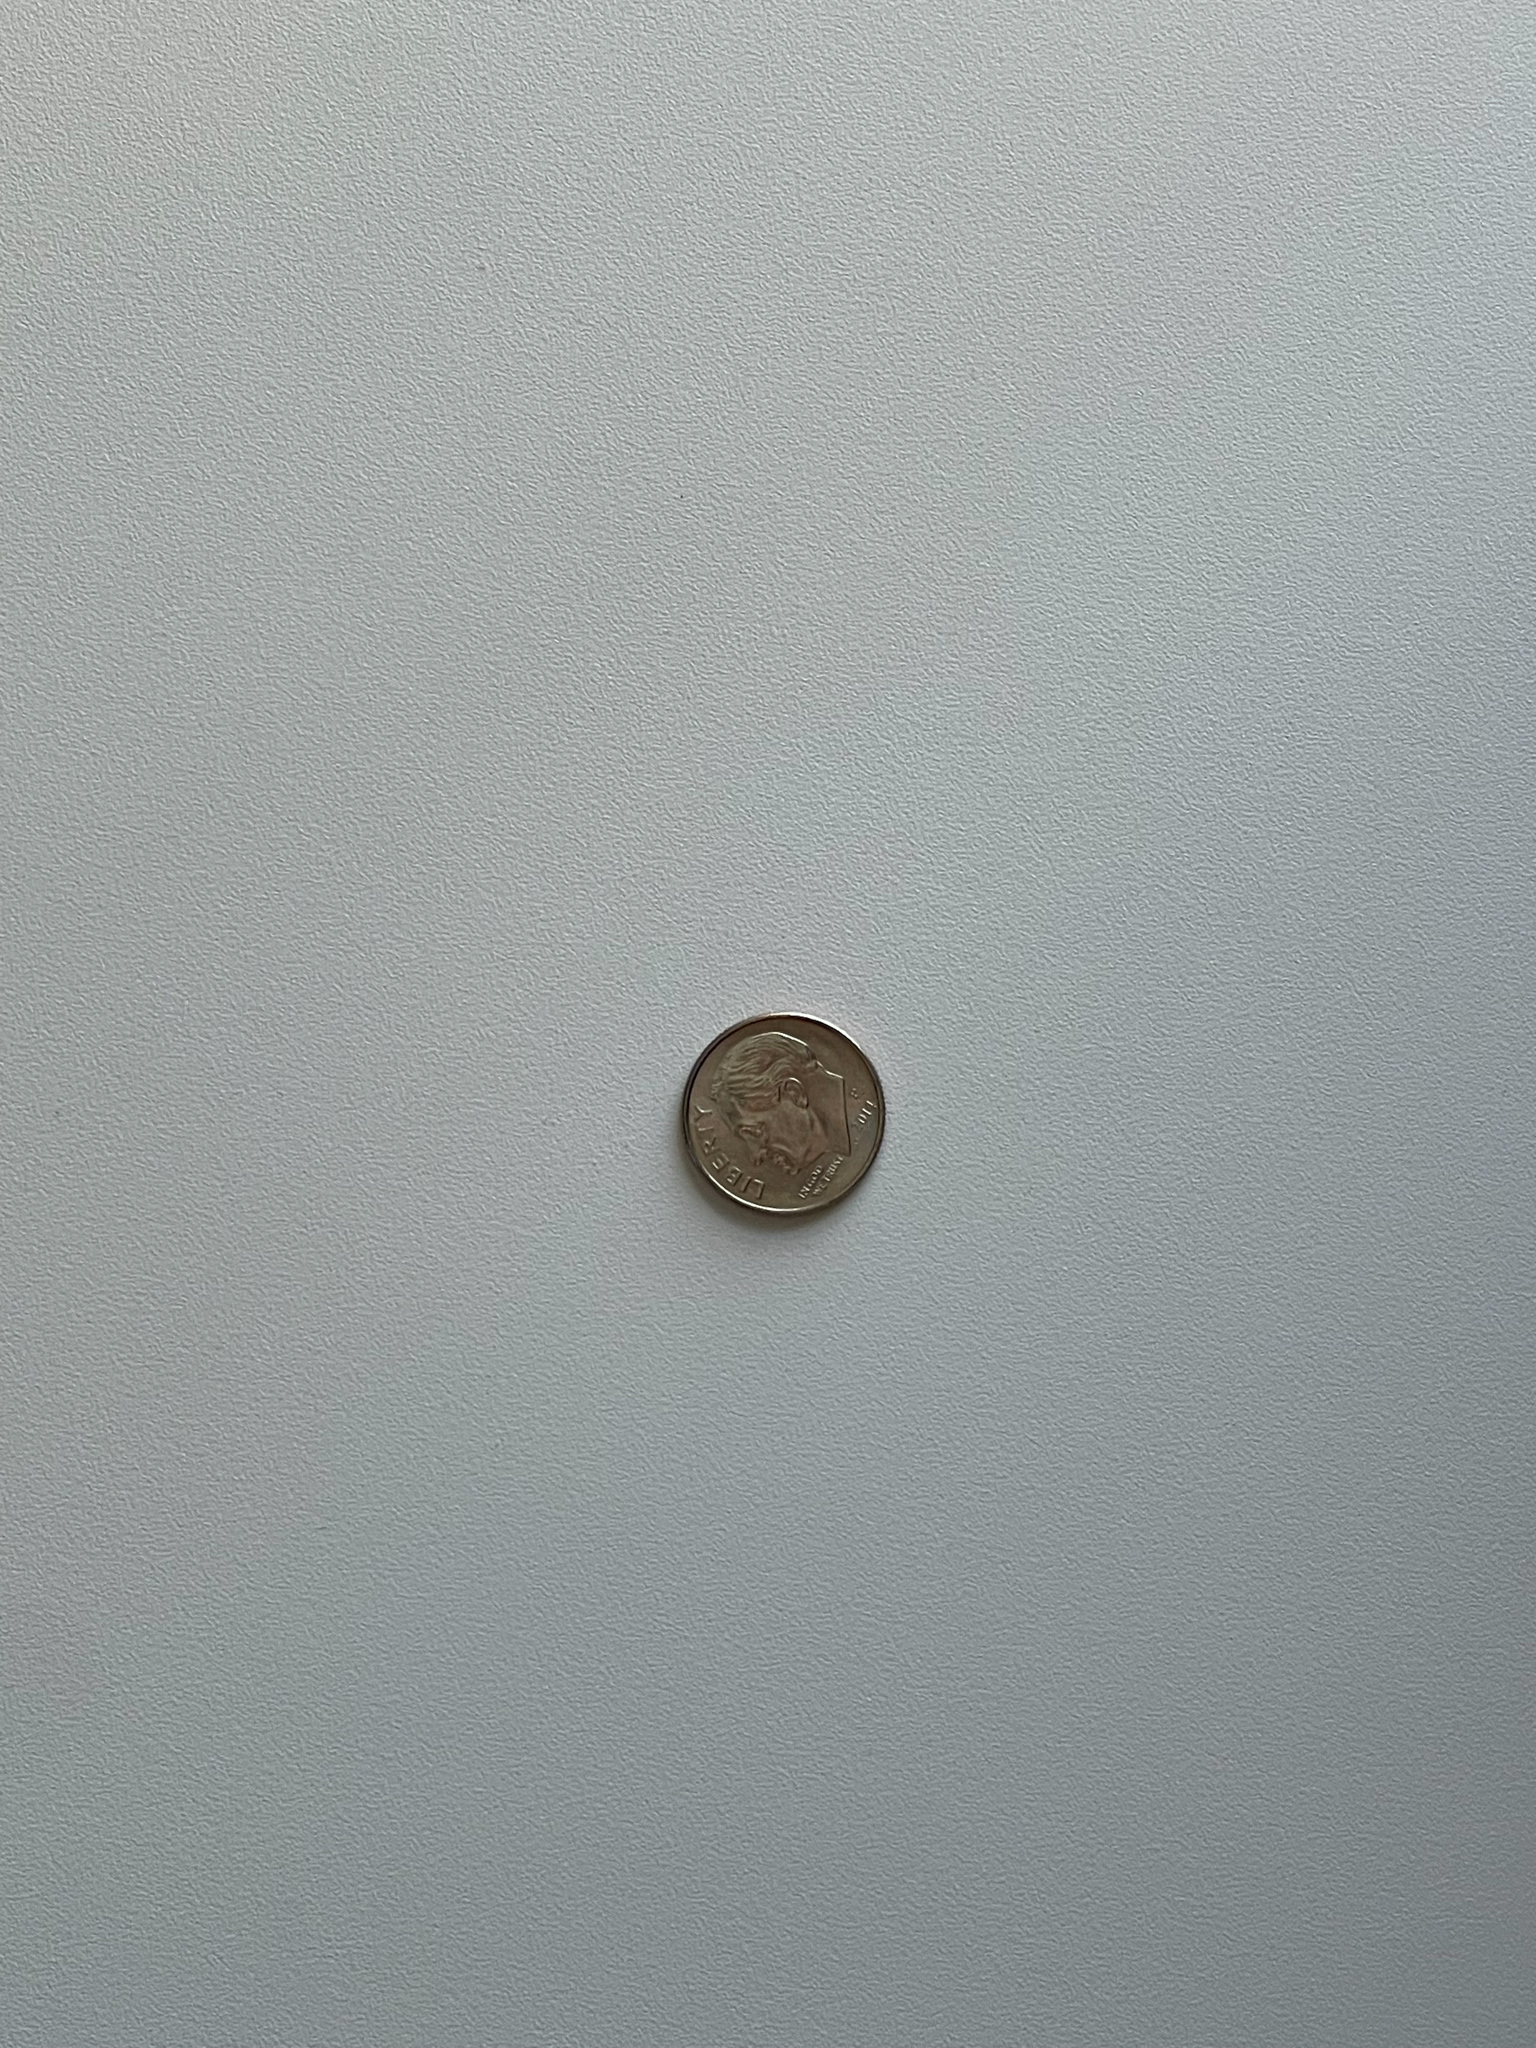dime: (676, 1006, 891, 1222)
